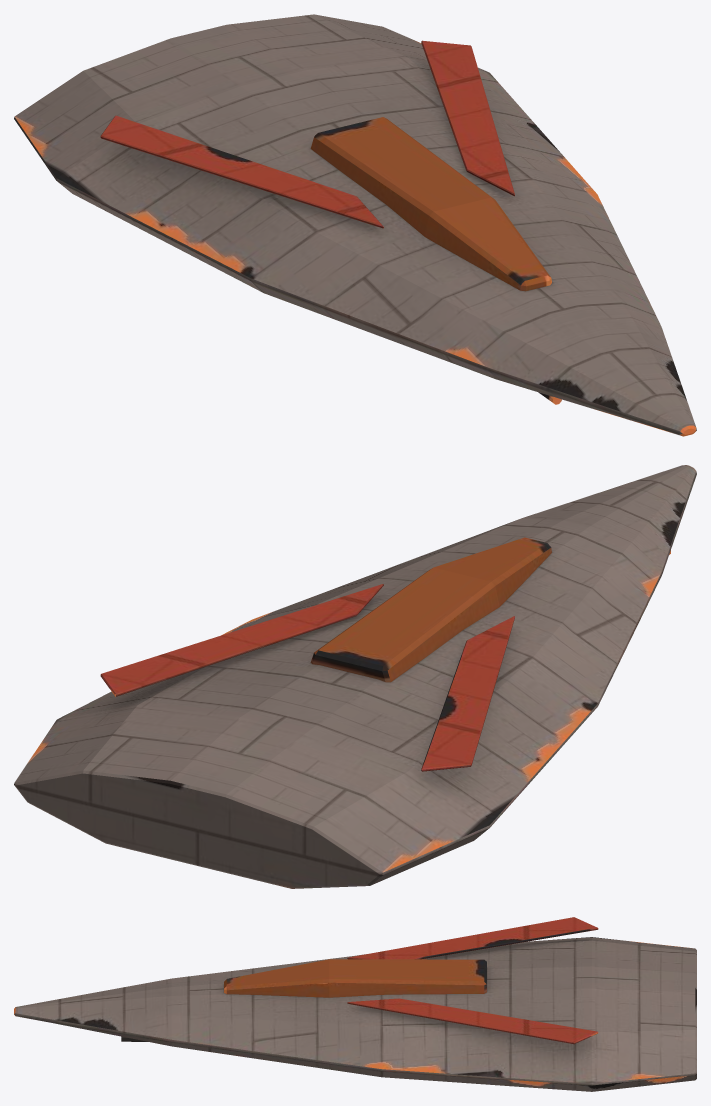
Rendered from vashkar_craft.glb.
3 renders of one model, top to bottom at view 1: azimuth 30°, elevation 25°; view 2: azimuth 150°, elevation 25°; view 3: azimuth 270°, elevation 25°, orthographic. The views are drawn at different scales.
Parts seen in each view (by area): view 1: HULL; view 2: HULL; view 3: HULL.
Boxes of the visible parts, x1,y1,x2,y2 form: HULL: (14,14,696,436); HULL: (14,465,696,888); HULL: (14,917,696,1091).
Bounding box in the file's own units: 2.62 × 0.604 × 5.15.
1 material, 1 textured.
